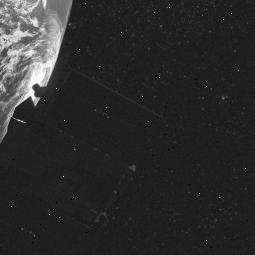proba_2: (1, 76, 162, 245)
